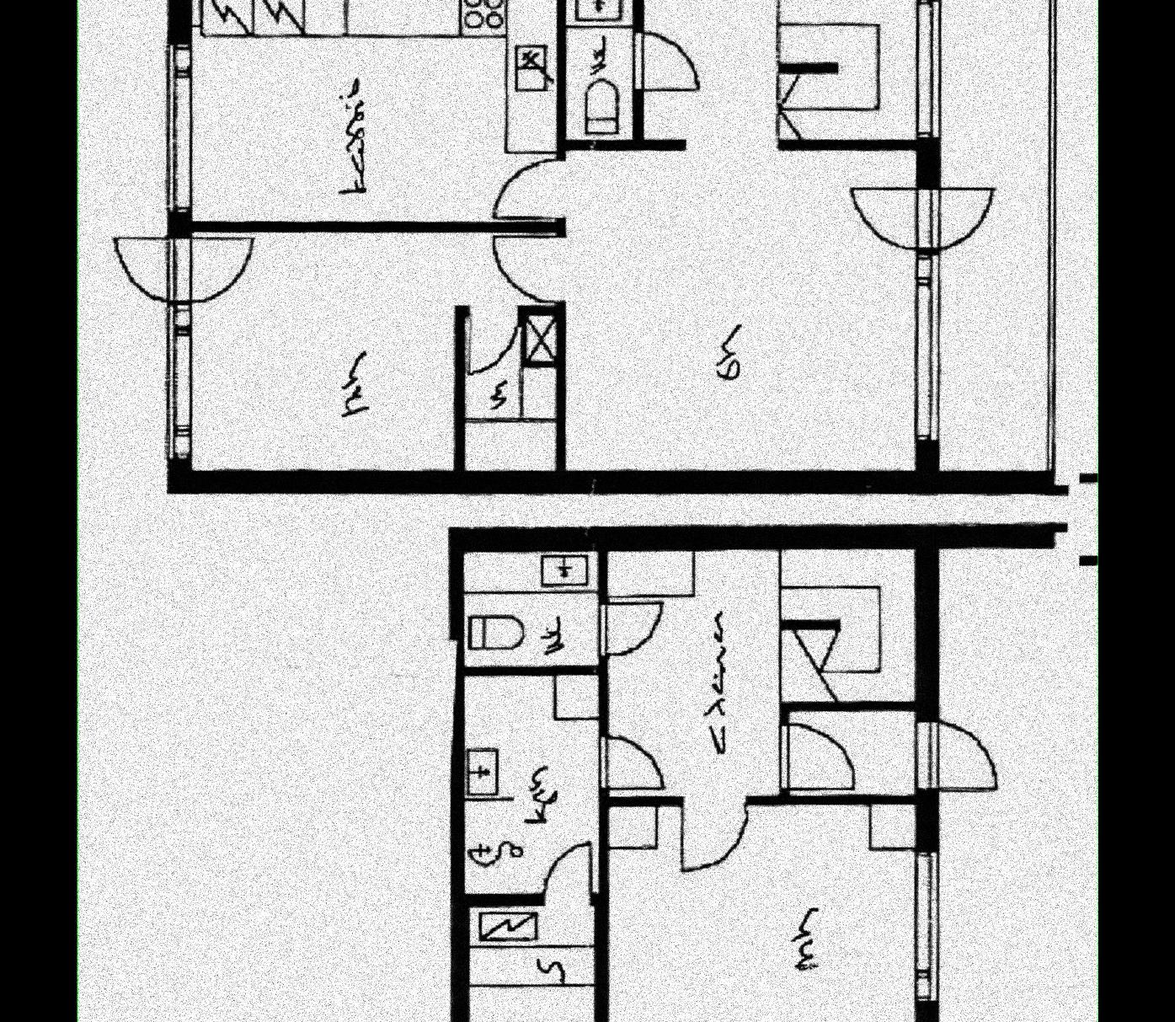door: (846, 179, 1001, 258), (112, 235, 256, 301), (915, 714, 1004, 800), (773, 723, 846, 799), (677, 800, 746, 879), (631, 30, 709, 94), (491, 153, 563, 222), (489, 233, 562, 300), (596, 597, 670, 662), (596, 728, 669, 793), (465, 304, 518, 379), (539, 837, 596, 902)
window: (913, 258, 937, 443), (163, 305, 193, 452), (913, 0, 940, 134), (163, 47, 185, 205), (913, 858, 932, 1006)
zone: (558, 0, 911, 474), (186, 236, 560, 474), (190, 0, 558, 221), (601, 803, 911, 1022), (935, 543, 1070, 1022), (940, 0, 1035, 470), (603, 540, 773, 800), (458, 672, 596, 894), (769, 545, 921, 709), (776, 0, 914, 142), (462, 548, 602, 672), (465, 899, 595, 1022), (462, 305, 553, 474), (782, 710, 917, 800), (562, 0, 637, 140)
